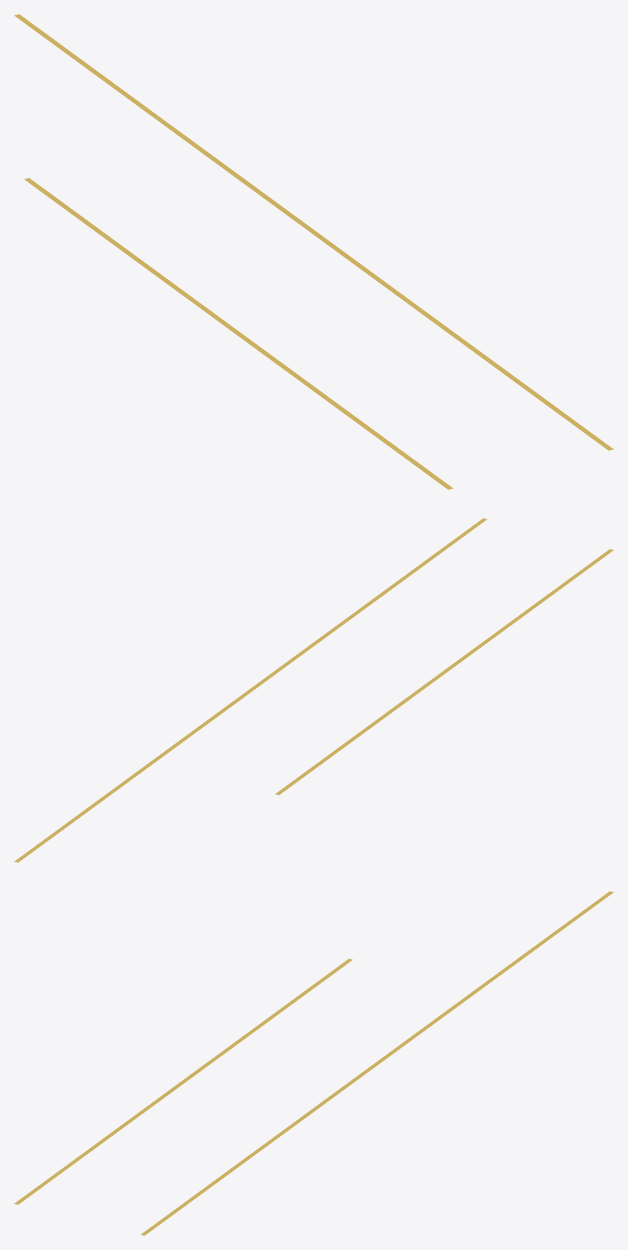
The model's file is SM_MPRR_DockLines_1_0.fbx.
3 renders of one model, top to bottom at view 1: azimuth 30°, elevation 25°; view 2: azimuth 150°, elevation 25°; view 3: azimuth 330°, elevation 25°, orthographic. The views are drawn at different scales.
Visible parts, largest first — view 1: SM_MPRR_DockLines_1_0; view 2: SM_MPRR_DockLines_1_0; view 3: SM_MPRR_DockLines_1_0.
Part boxes in pixels (x1,y1,x2,y2): SM_MPRR_DockLines_1_0: (14,14,613,489); SM_MPRR_DockLines_1_0: (14,518,613,862); SM_MPRR_DockLines_1_0: (14,891,613,1235).
Size of the model in its own units: 341 by 2119 by 0.
